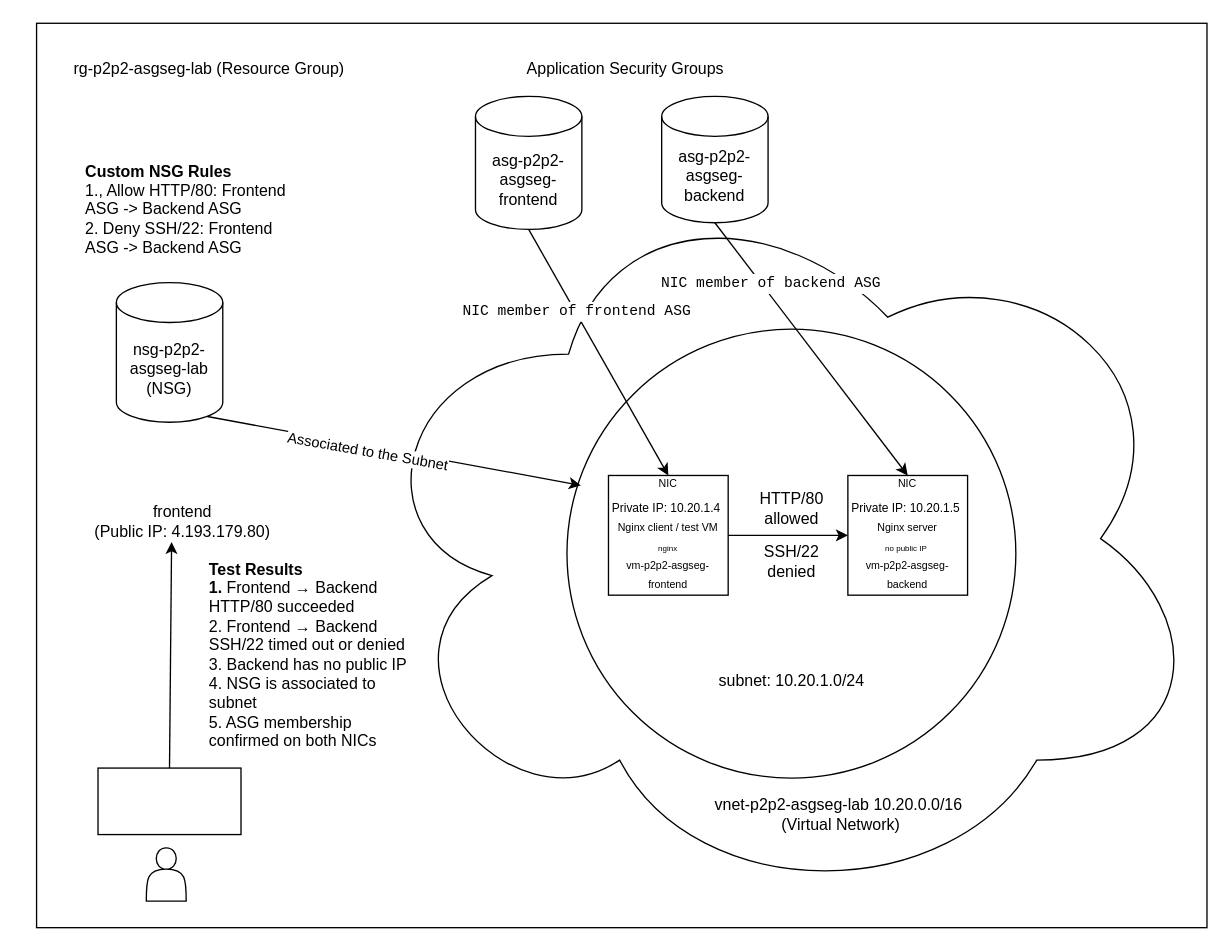
Some shapes in this 1230 by 951 pixel diagram are drawn without their labels. Here are the shapes that lost their labels. From the top down, the centre of each, then its label:
At point (169, 801): "Test Machine / Frontend VM".
At point (165, 874): "User".
